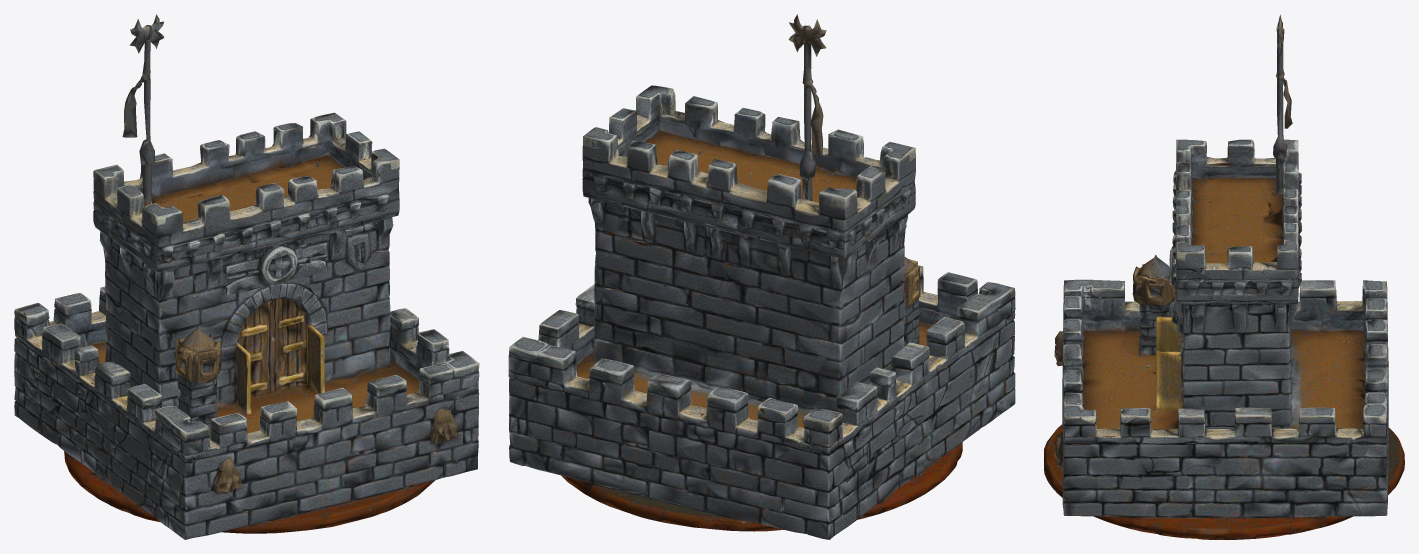
File: site_keep.glb
The picture shows the model from 3 angles, left to right: view 1: azimuth 30°, elevation 25°; view 2: azimuth 150°, elevation 25°; view 3: azimuth 270°, elevation 25°; orthographic projection. The views are drawn at different scales.
Size of the model in its own units: 1.52 by 1.9 by 1.52.
1 material, 1 textured.
